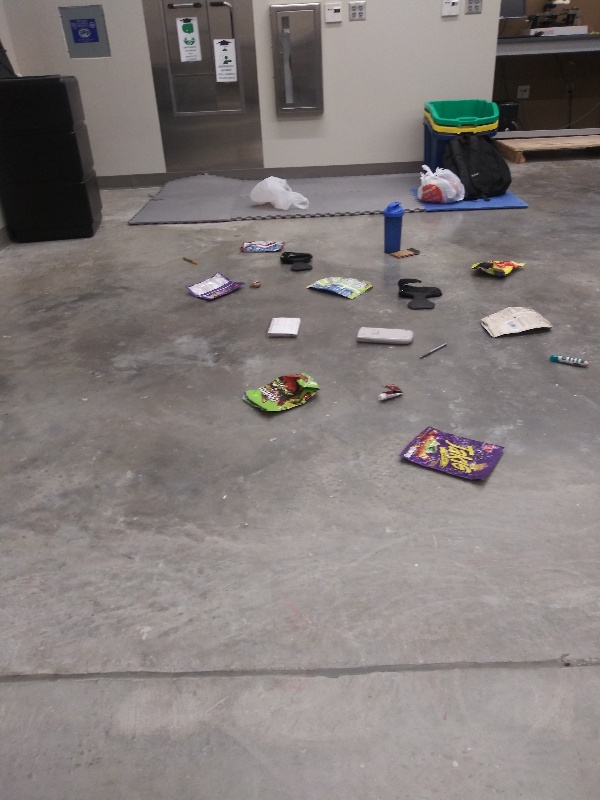bag: (393, 421, 509, 491), (237, 368, 327, 420), (475, 301, 558, 342), (299, 272, 379, 303), (178, 269, 245, 304), (466, 256, 534, 283), (234, 236, 287, 258)
